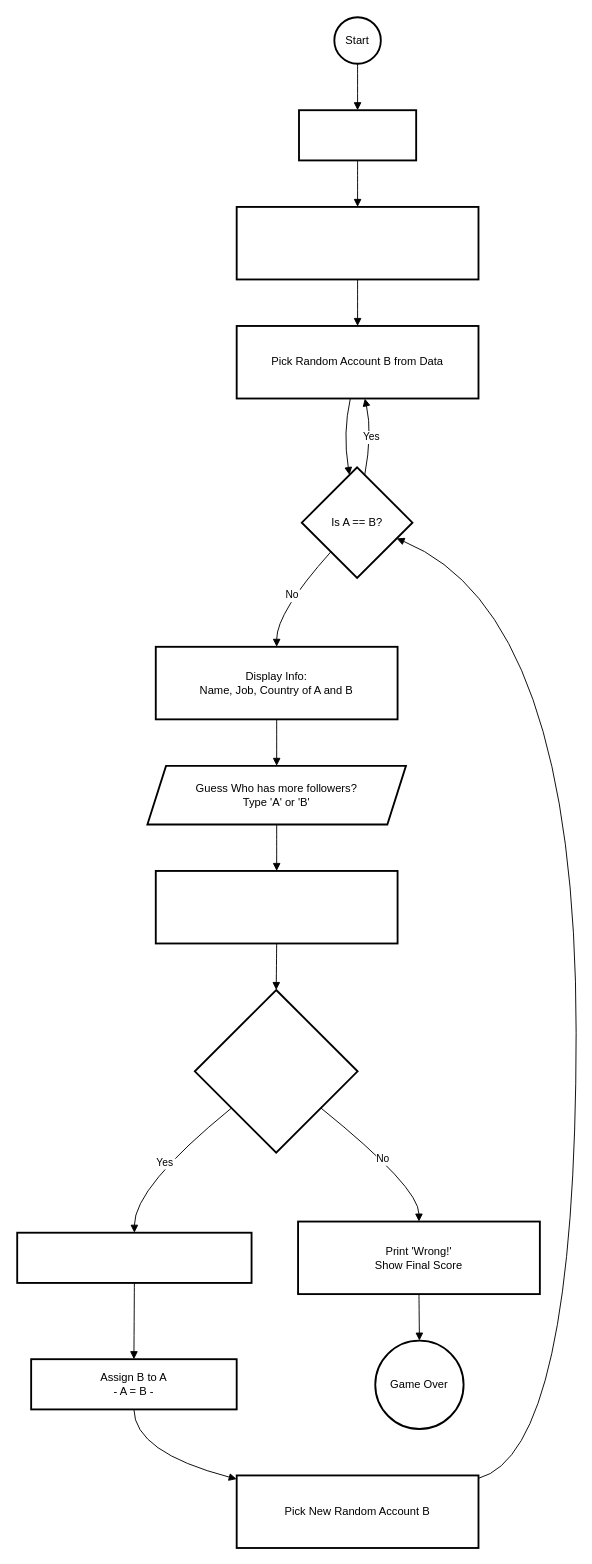
Image size: 592x1564. Some labels were removed from this diagram. The shapes that lost their labels are listed below. From the top down, each one's centre as x and y in pixels, then its label:
At (357,135): "Score = 0".
At (357,243): "Pick Random Account A from Data".
At (276,907): "Compare follower_count of A and B".
At (275,1071): "Is Guess Correct?".
At (134,1257): "Score += 1 Print 'Correct!'".
